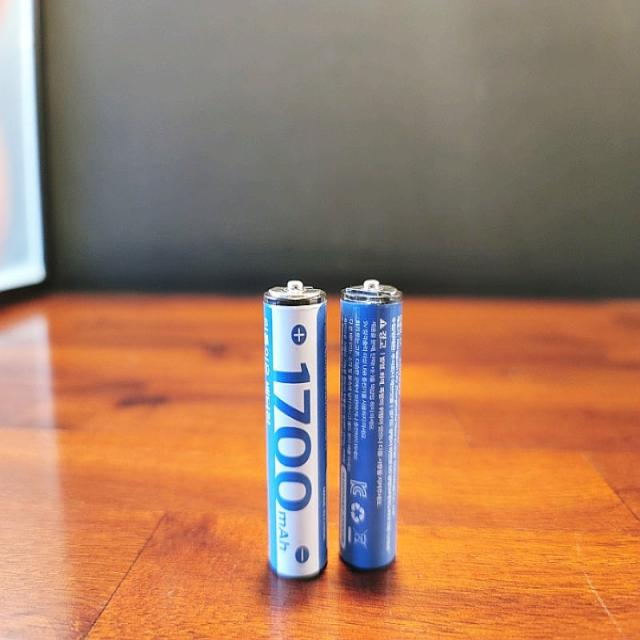battery: (257, 274, 330, 584), (343, 277, 401, 568)
